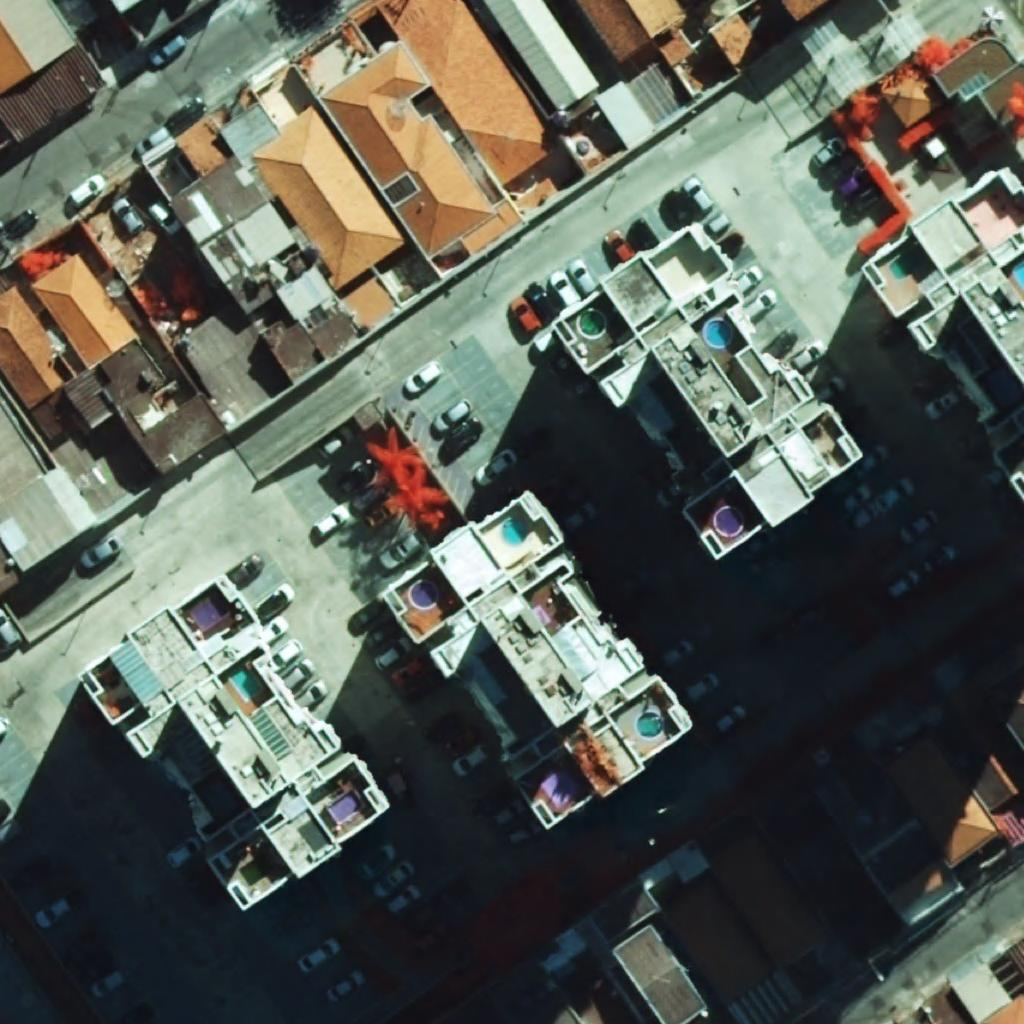pool: (191, 592, 230, 629), (228, 664, 261, 700), (329, 790, 363, 823), (888, 255, 915, 280), (716, 509, 742, 534), (706, 320, 731, 346), (411, 582, 436, 607), (502, 520, 528, 544), (637, 713, 662, 737), (580, 311, 604, 335), (1013, 262, 1024, 287)
